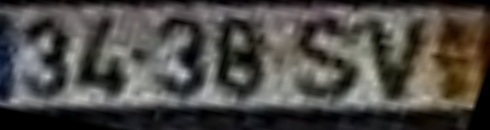3: (151, 11, 213, 105), (18, 14, 73, 105)
4: (75, 16, 132, 105)
8: (212, 14, 270, 107)
S: (292, 14, 366, 108)
V: (360, 18, 437, 109)
